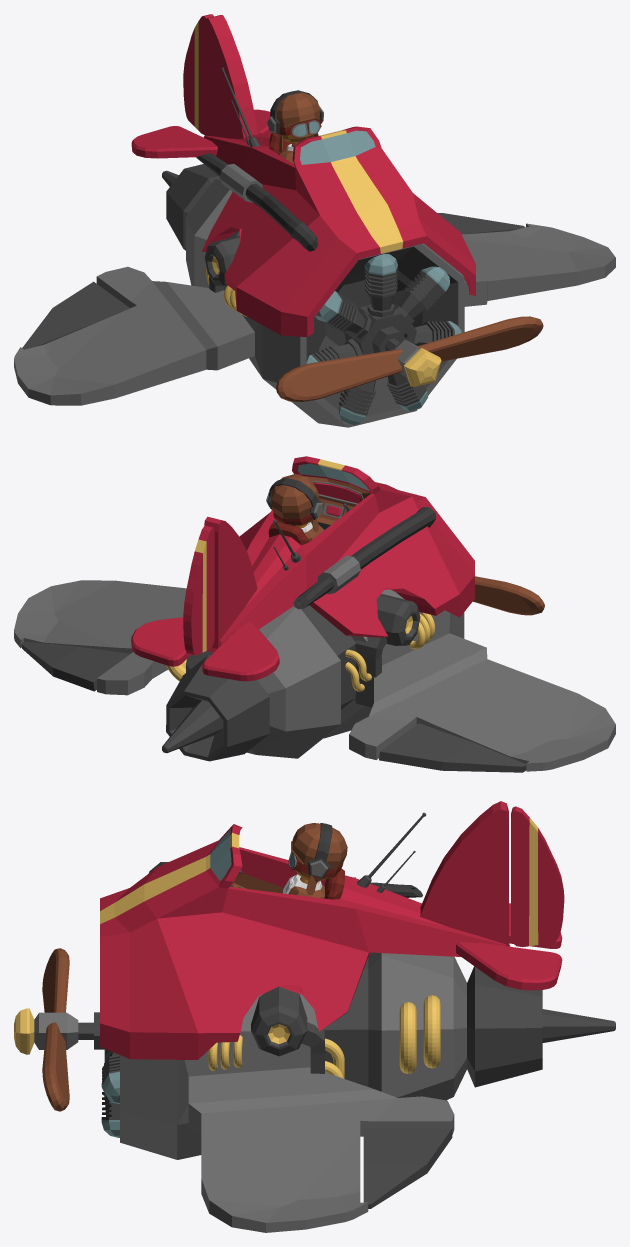
File: aircraft-A-A.fbx
The picture shows the model from 3 angles, top to bottom: view 1: azimuth 30°, elevation 25°; view 2: azimuth 150°, elevation 25°; view 3: azimuth 270°, elevation 25°; orthographic projection. The views are drawn at different scales.
Visible parts, largest first — view 1: Cylinder.027, Plane, Cube.008, Circle.003, Cube.007; view 2: Cylinder.027, Cube.008, Cube.007, Circle.003, Plane; view 3: Cylinder.027, Plane, Cube.007, Circle.003.
Boxes of the visible parts, <box> form: Cylinder.027: <box>14,14,615,427</box>; Plane: <box>276,316,543,402</box>; Cube.008: <box>22,281,129,349</box>; Circle.003: <box>267,90,323,163</box>; Cube.007: <box>437,213,525,234</box>; Cylinder.027: <box>14,456,615,771</box>; Cube.008: <box>379,723,526,772</box>; Cube.007: <box>21,641,130,691</box>; Circle.003: <box>266,474,323,541</box>; Plane: <box>473,576,544,615</box>; Cylinder.027: <box>78,801,615,1232</box>; Plane: <box>14,948,78,1111</box>; Cube.007: <box>363,1128,452,1208</box>; Circle.003: <box>283,823,347,898</box>.
Bounding box in the file's own units: 1027 × 496 × 811.
